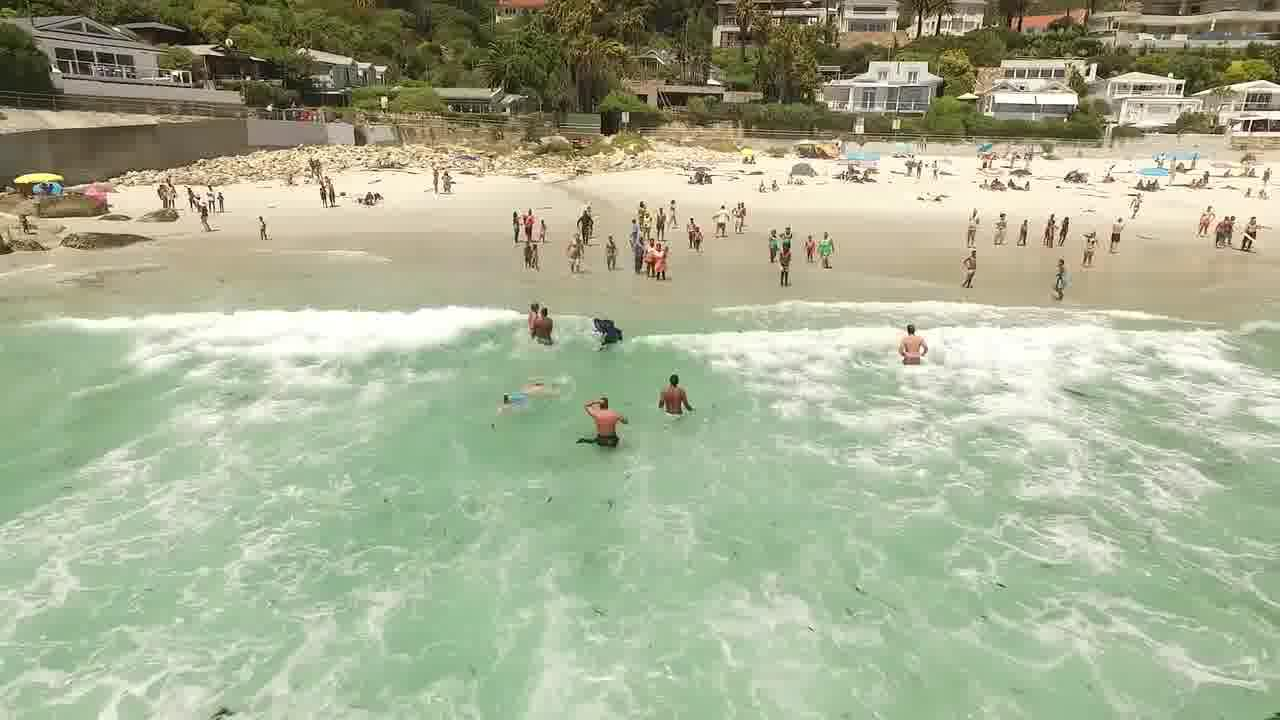swimmer: (895, 312, 935, 369), (587, 392, 628, 441), (667, 362, 694, 419), (589, 312, 625, 341), (538, 299, 552, 345), (521, 290, 529, 316)
